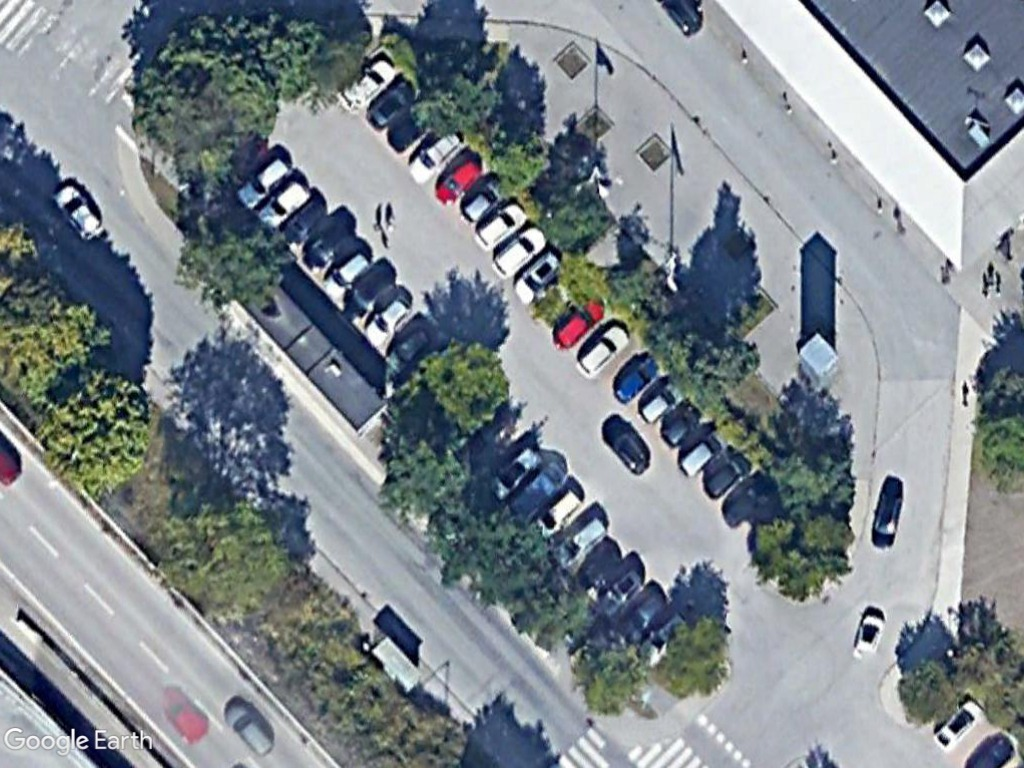car: (230, 147, 299, 214), (45, 180, 111, 250), (249, 171, 315, 237), (403, 118, 464, 189), (570, 316, 632, 384), (220, 697, 283, 763), (486, 219, 550, 283), (599, 415, 661, 480), (468, 196, 532, 257), (357, 289, 417, 352), (430, 147, 487, 209), (529, 482, 586, 541), (316, 243, 372, 303), (864, 480, 906, 554), (608, 348, 662, 405), (847, 606, 894, 666)
